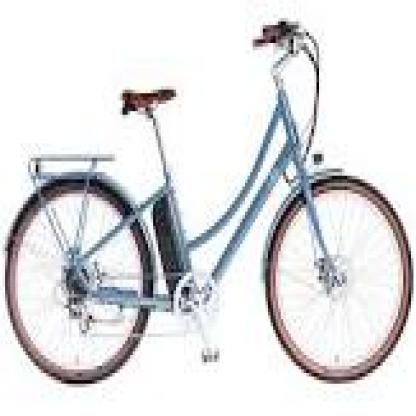Bike: (7, 21, 414, 385)
